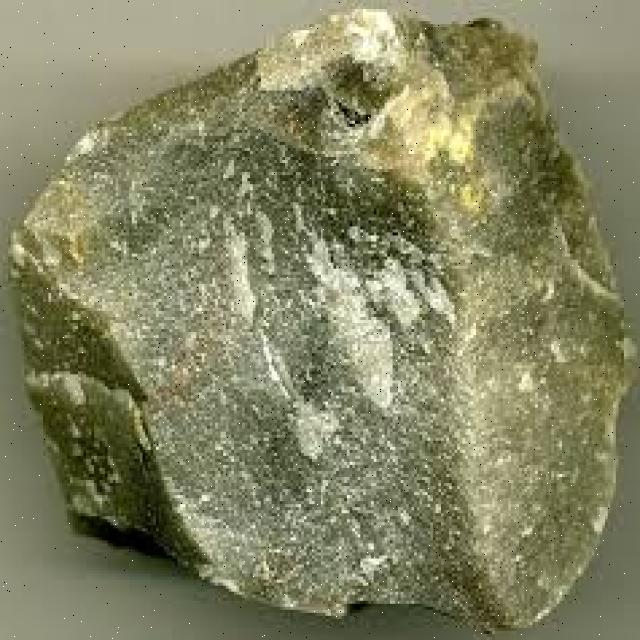Metamorphic: (8, 18, 629, 631)
